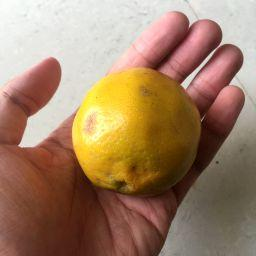Ripe: (73, 69, 199, 191)
